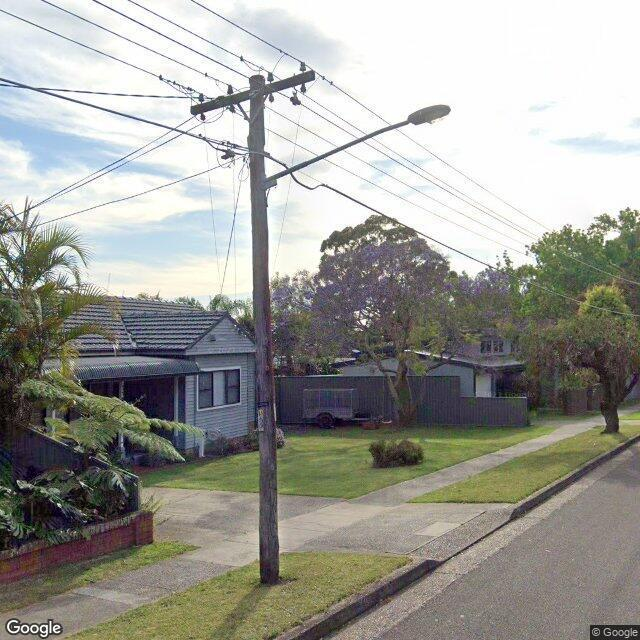crossarm: (189, 68, 317, 116)
streetlight: (263, 104, 452, 189)
timber-pole: (248, 74, 280, 586)
